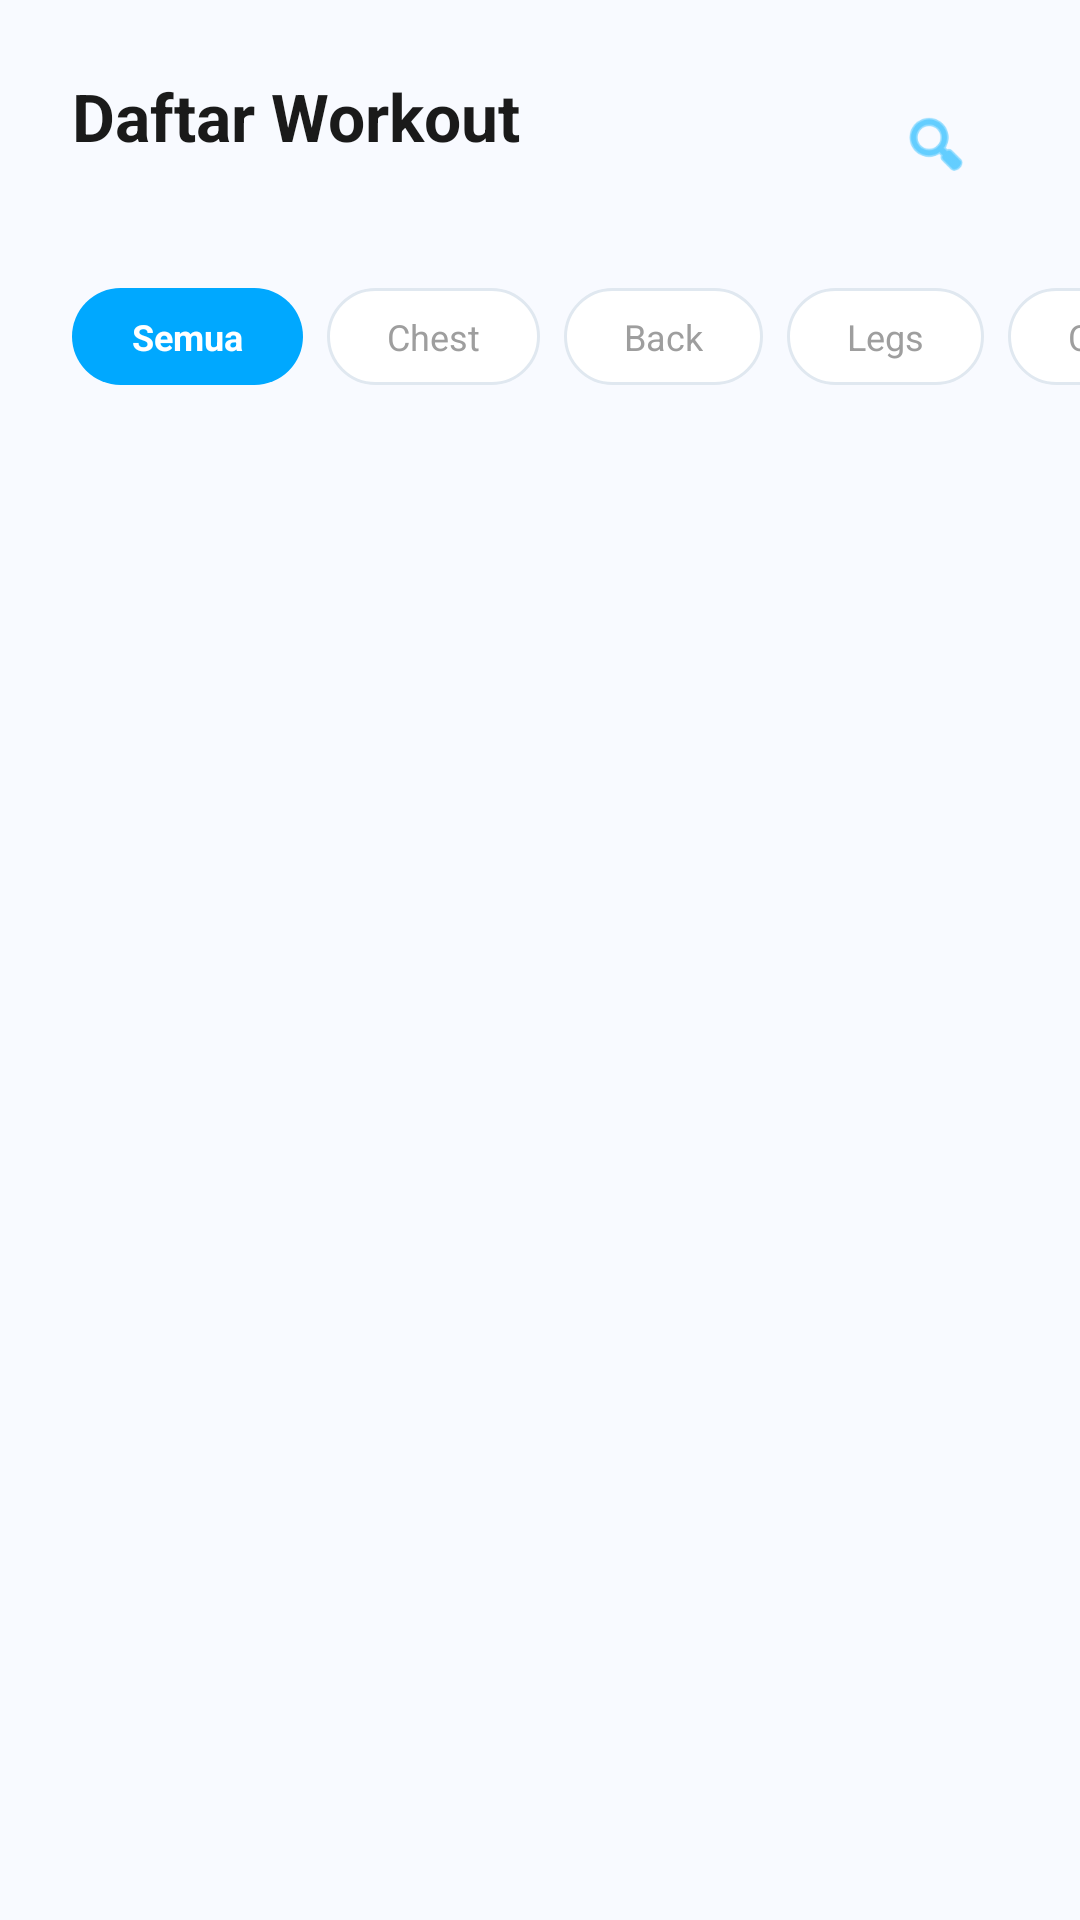

Locate icon controls on the screen. Image size 1080 × 1920, boxes as [x1,y1,x2,y2].
search: [909,118,963,171]
